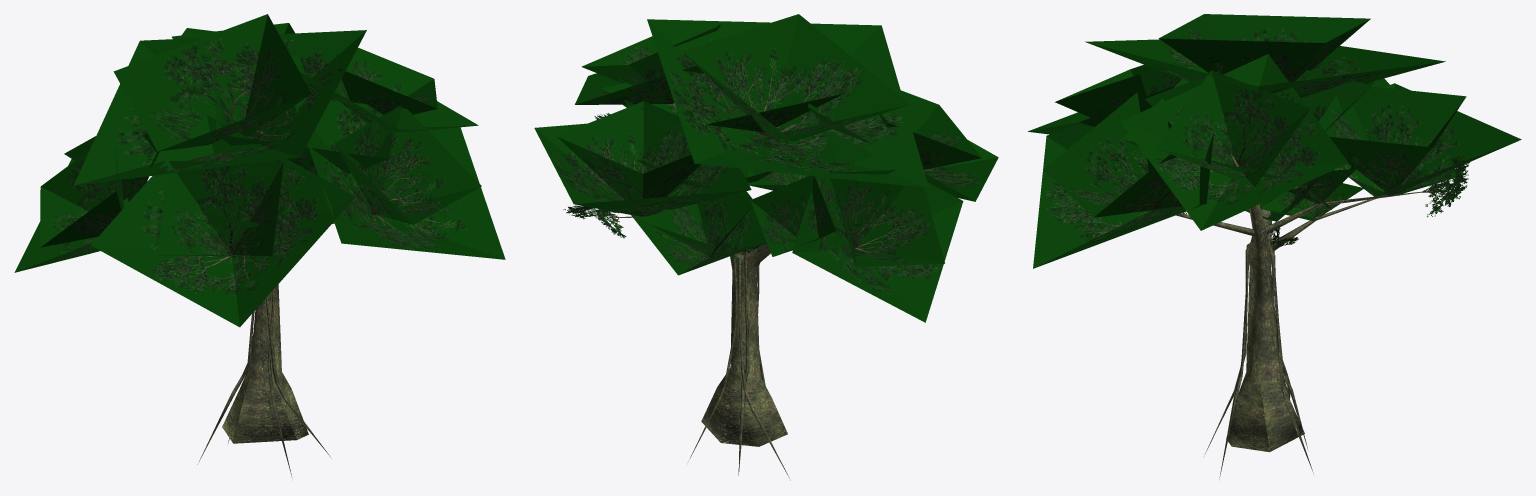
Rendered from decd_treecanopy_a3_l1.fbx.
3 views of the same model, side by side, from view 1: azimuth 30°, elevation 25°; view 2: azimuth 150°, elevation 25°; view 3: azimuth 270°, elevation 25° (orthographic). The views are drawn at different scales.
Visible parts, largest first — view 1: mesh_node; view 2: mesh_node; view 3: mesh_node.
Boxes of the visible parts, <box> form: mesh_node: <box>14,14,505,477</box>; mesh_node: <box>534,14,998,480</box>; mesh_node: <box>1028,14,1521,479</box>.
Bounding box in the file's own units: 30.36 × 30.32 × 31.14.
